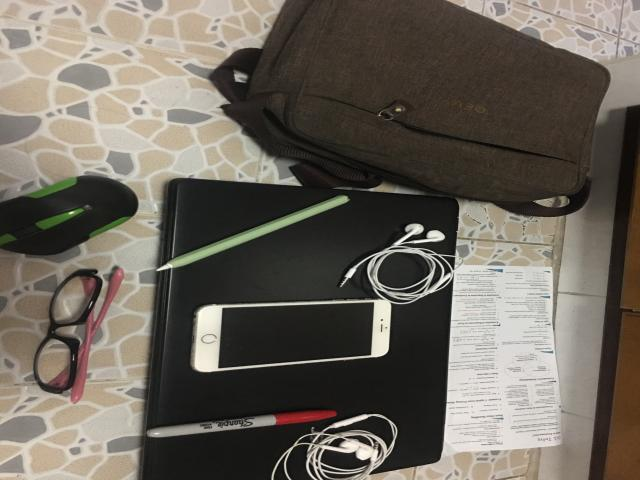Glasses: (33, 268, 123, 403)
Mobile phone: (192, 299, 392, 372)
Mouse: (0, 175, 138, 255)
Pen: (147, 410, 337, 438)
paper: (445, 265, 562, 454)
wire: (338, 223, 455, 305), (270, 413, 398, 480)
